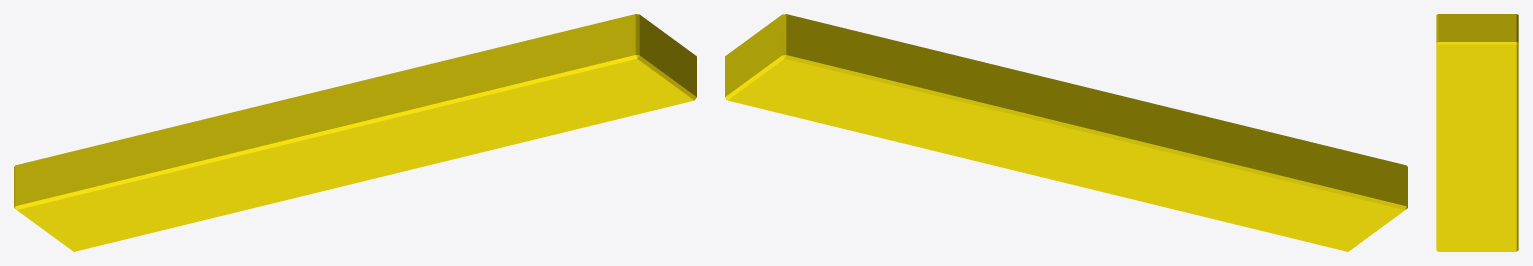
The picture shows the model from 3 angles, left to right: view 1: azimuth 30°, elevation 25°; view 2: azimuth 150°, elevation 25°; view 3: azimuth 270°, elevation 25°; orthographic projection. The views are drawn at different scales.
Parts seen in each view (by area): view 1: 004_L_663600_PART_1; view 2: 004_L_663600_PART_1; view 3: 004_L_663600_PART_1.
Part boxes in pixels (left/top/right/bottom): 004_L_663600_PART_1: left=14, top=14, right=696, bottom=251; 004_L_663600_PART_1: left=725, top=14, right=1407, bottom=251; 004_L_663600_PART_1: left=1436, top=14, right=1518, bottom=251.
Size of the model in its own units: 4.8 by 0.32 by 0.8.
